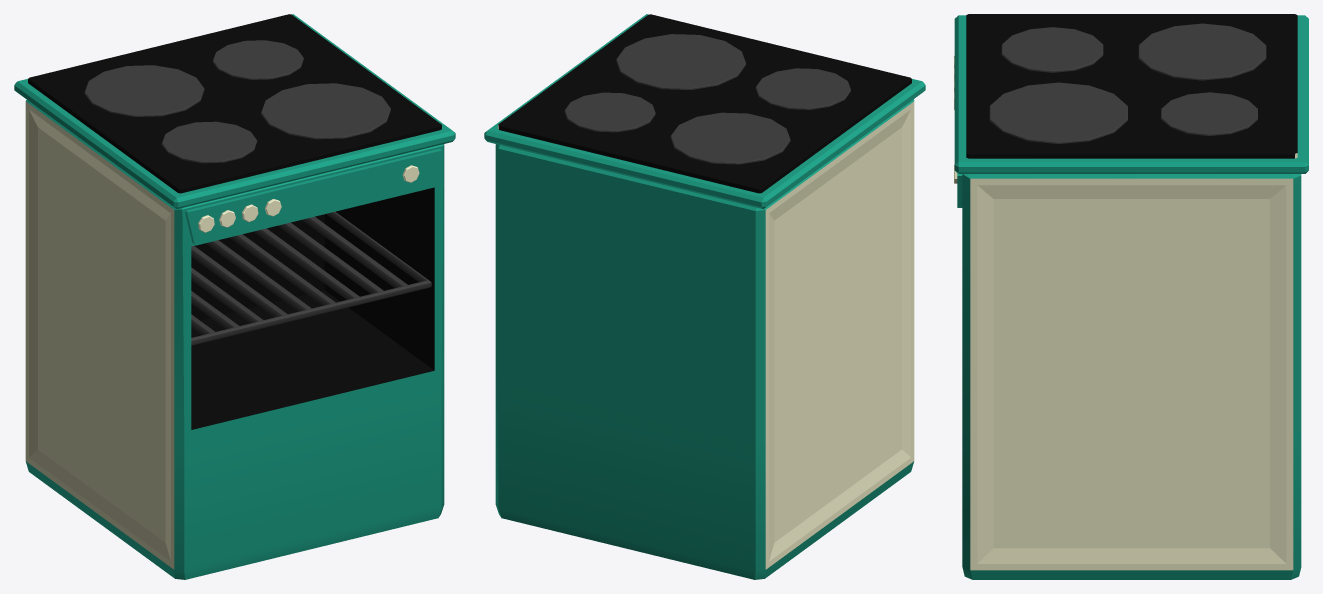
Rendered from P_Oven_Core.FBX.
3 views of the same model, side by side, from view 1: azimuth 30°, elevation 25°; view 2: azimuth 150°, elevation 25°; view 3: azimuth 270°, elevation 25° (orthographic). The views are drawn at different scales.
Visible parts, largest first — view 1: Oven_Core; view 2: Oven_Core; view 3: Oven_Core.
Boxes of the visible parts, x1,y1,x2,y2 form: Oven_Core: (14, 14, 455, 579); Oven_Core: (484, 14, 925, 579); Oven_Core: (954, 14, 1308, 579).
Bounding box in the file's own units: 30.83 × 30.9 × 41.07.
